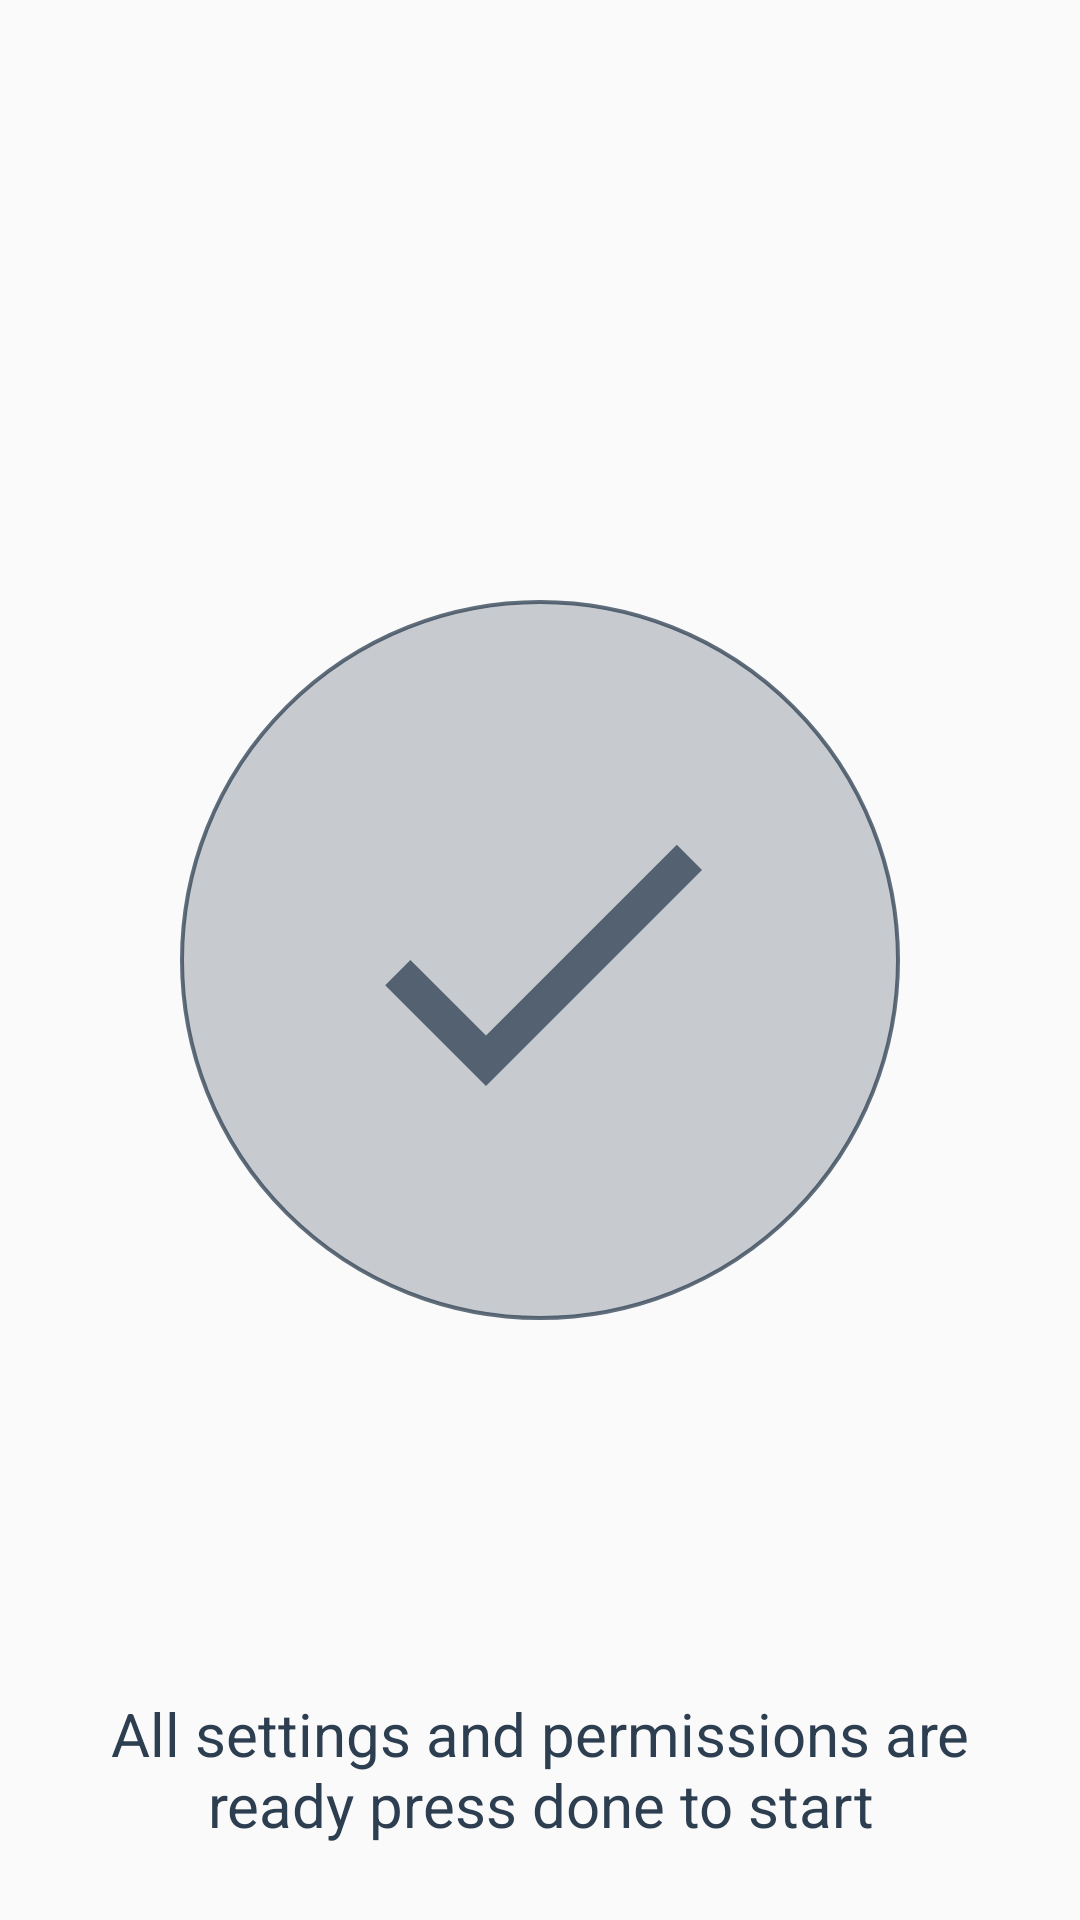

Named icons in this screenshot (1080px x 1920px) and their bounding boxes, Rect(x1, y1, x2, y2):
done midnight: Rect(385, 845, 702, 1086)
